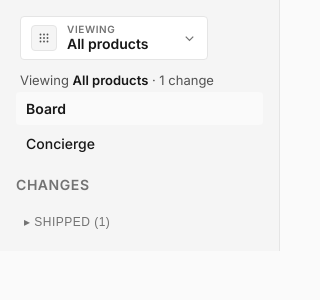
Scenario: <Sidebar> › shipped section › expands shipped items on toggle click
The image size is (320, 300).
Click the button with test id "sidebar-shipped-toggle" at (140, 222), box x1=16 y1=209 x2=263 y2=235
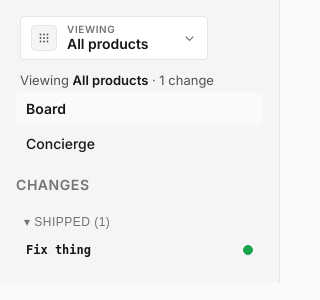
Result: the navigation bar with test id "sidebar-shipped-items" is shown at x1=26 y1=243 x2=253 y2=257
Result: the button with test id "sidebar-shipped-toggle" is expanded at x1=16 y1=209 x2=263 y2=235
